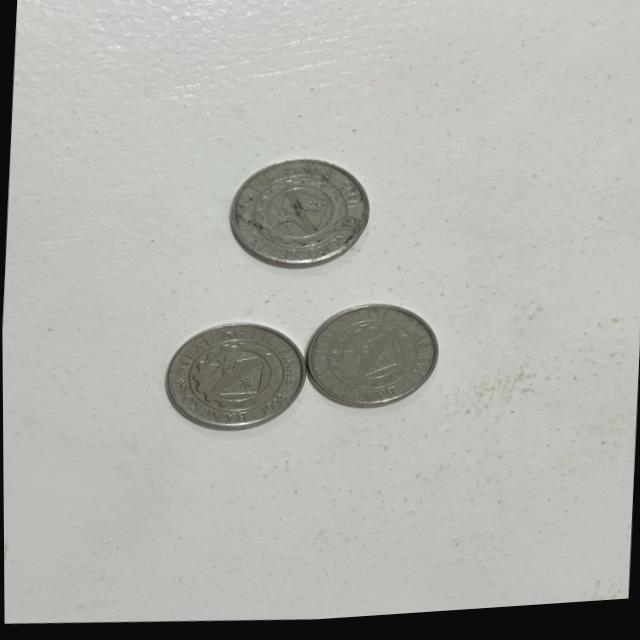1_Old_Back: (180, 330, 292, 420), (318, 316, 428, 407), (243, 169, 353, 259)
